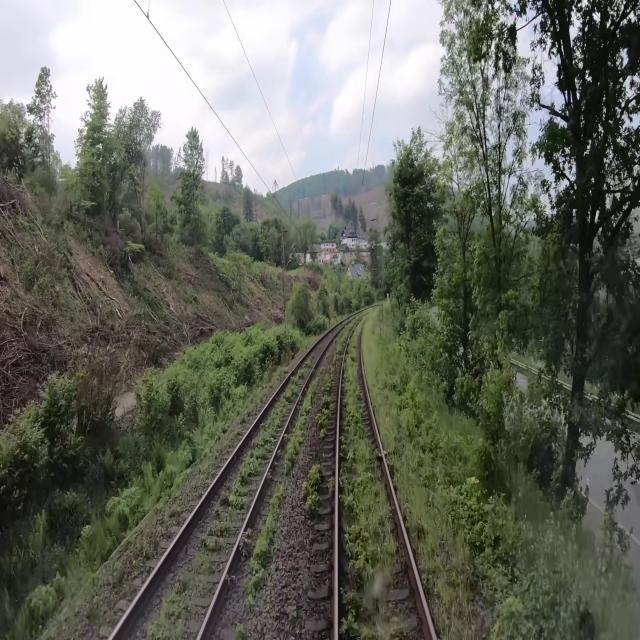Plant: (362, 349, 474, 639), (338, 316, 403, 639), (220, 378, 299, 511), (314, 314, 362, 440), (245, 482, 287, 612), (284, 376, 320, 475), (149, 580, 191, 639), (200, 507, 234, 552), (301, 462, 323, 516), (296, 352, 315, 380), (190, 552, 214, 571), (485, 621, 508, 639), (286, 606, 298, 627), (234, 623, 247, 639), (329, 476, 334, 490), (326, 352, 330, 359), (320, 366, 323, 374)
